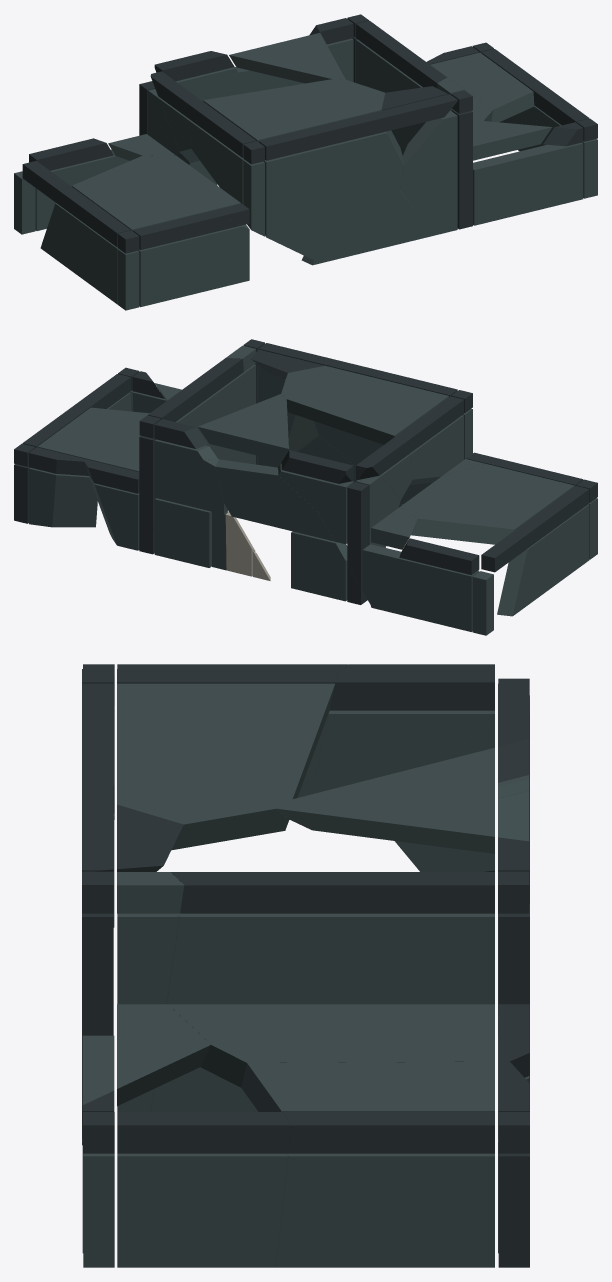
File: SM_RDFacility.obj
3 renders of one model, top to bottom at view 1: azimuth 30°, elevation 25°; view 2: azimuth 150°, elevation 25°; view 3: azimuth 270°, elevation 25°, orthographic. The views are drawn at different scales.
Parts seen in each view (by area): view 1: rd_facility; view 2: rd_facility; view 3: rd_facility.
Boxes of the visible parts, x1,y1,x2,y2 form: rd_facility: (14,14,597,310); rd_facility: (14,339,597,635); rd_facility: (82,664,529,1267).
Size of the model in its own units: 17.32 by 4.56 by 7.11.
